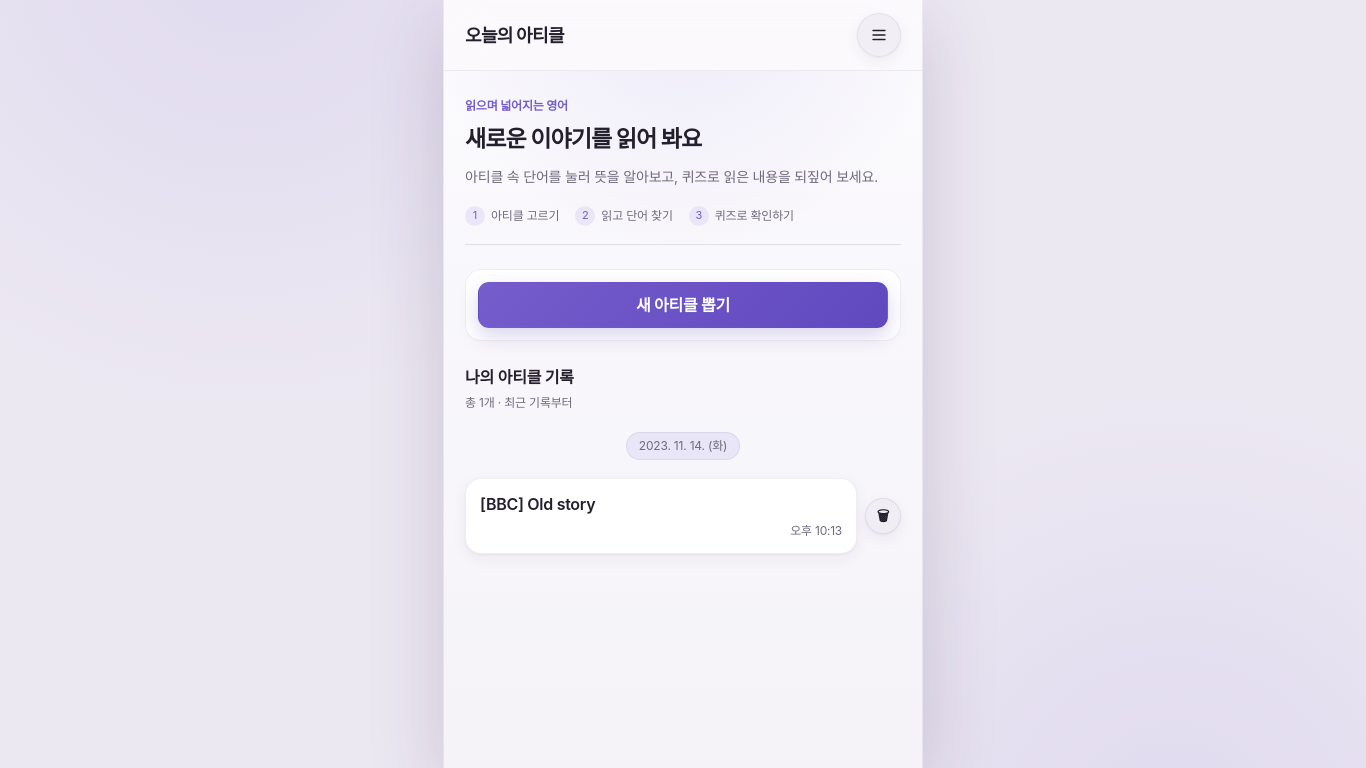
Test: ArticleQuiz page — list view › asks for confirmation, deletes, and removes the row on confirmed success
Click the button named "아티클 퀴즈 삭제".
click(883, 516)  # box [865,498,901,534]
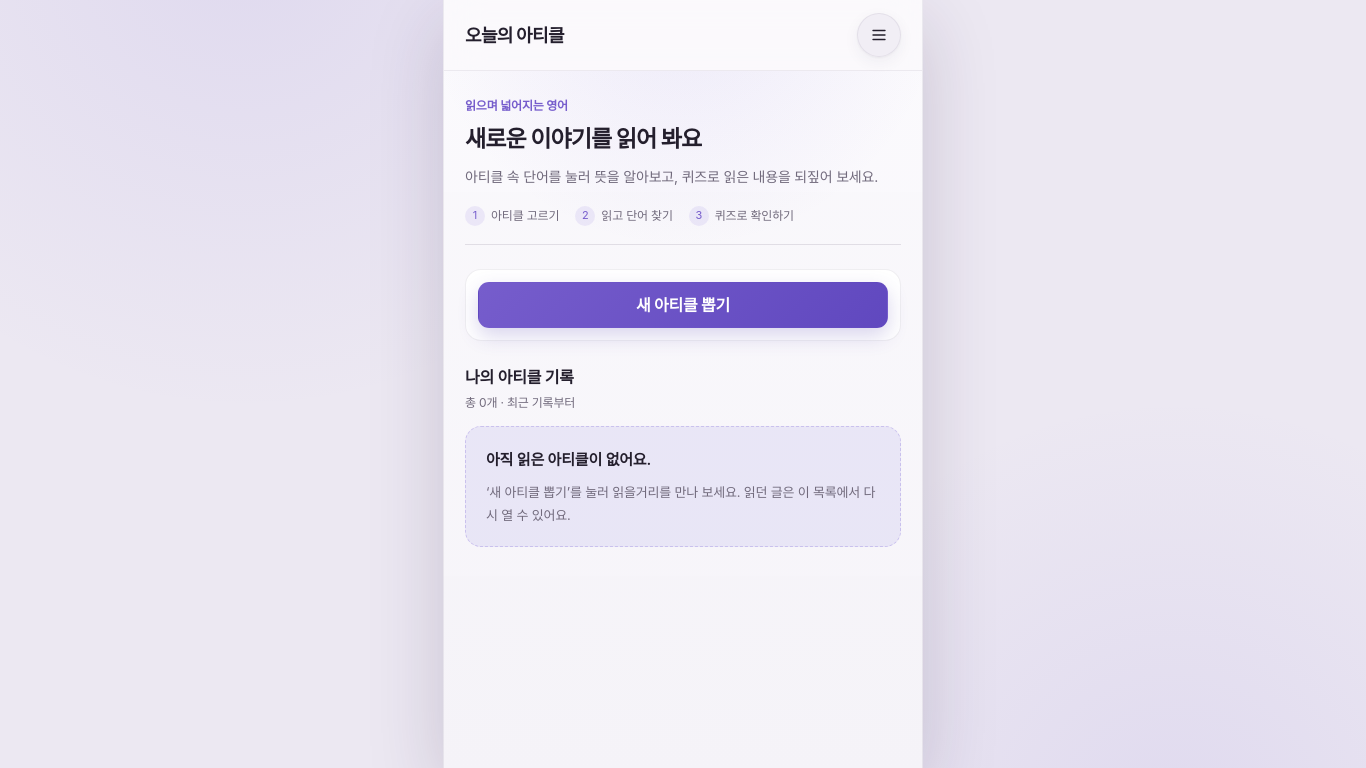
expect the text "아직 읽은 아티클이 없어요." is shown: met, box [486,450,651,469]
expect the text "총 0개 · 최근 기록부터" is shown: met, box [465,395,575,410]
